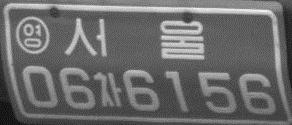0: (21, 64, 58, 108)
1: (163, 70, 194, 113)
5: (197, 71, 236, 113)
6: (123, 68, 159, 112), (238, 73, 275, 115), (59, 67, 95, 109)
서울_D: (64, 17, 205, 60)
영: (14, 15, 50, 55)
차: (94, 70, 122, 108)
